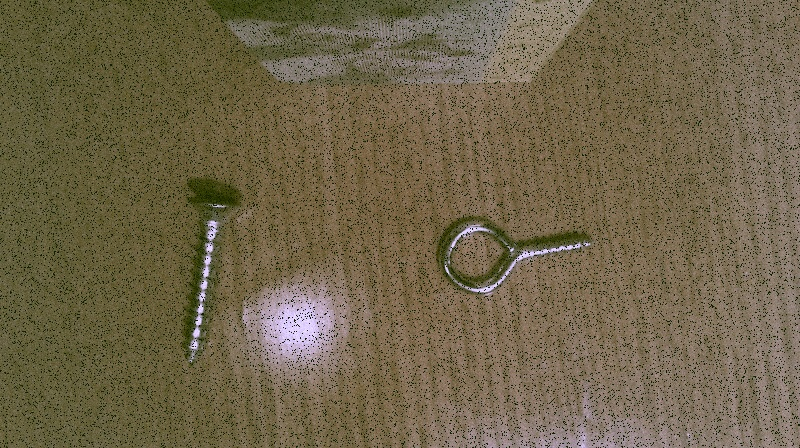O001: (433, 214, 597, 298)
S001: (175, 188, 246, 367)
